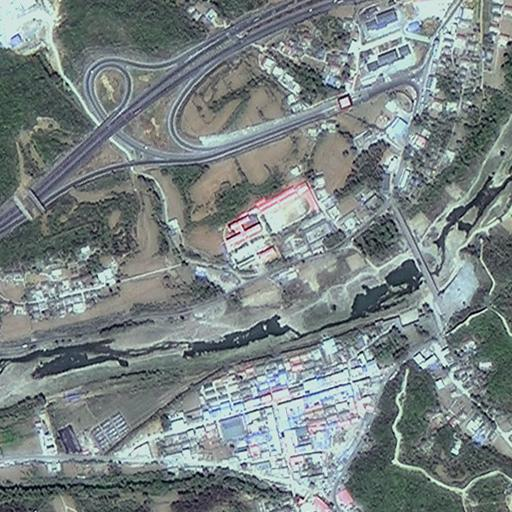school: (218, 179, 332, 273)
